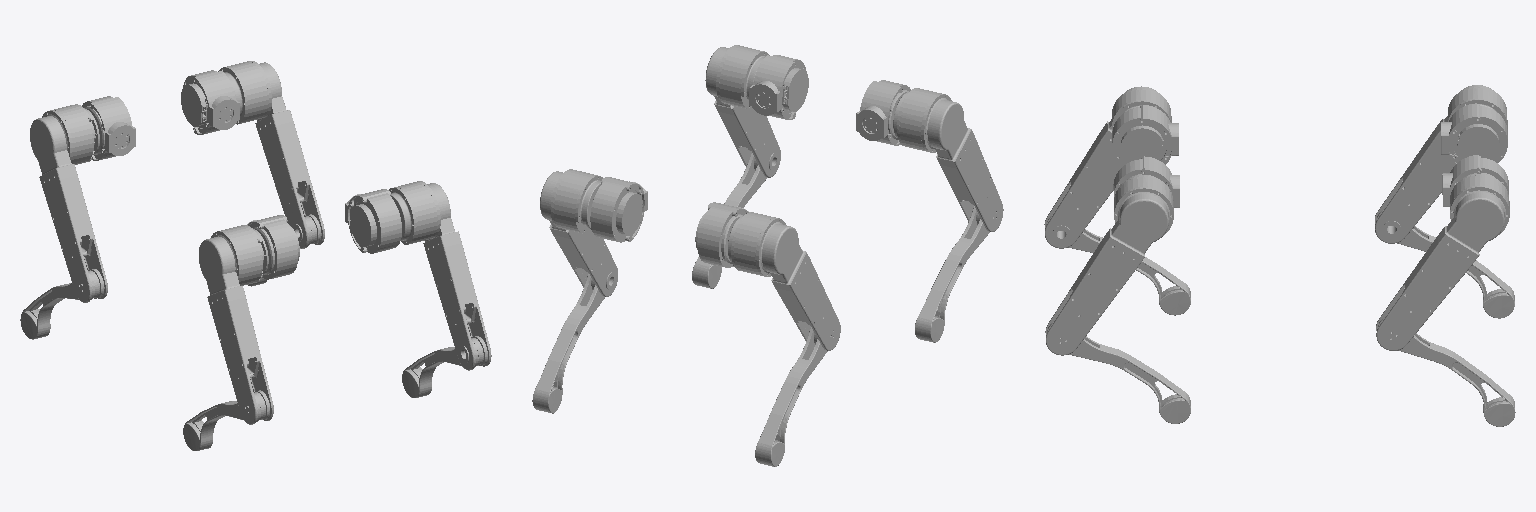
robot.urdf — 1:
<?xml version="1.0" encoding="utf-8"?>
<!-- This URDF was automatically created by SolidWorks to URDF Exporter! Originally created by [author] ([email redacted]) 
     Commit Version: 1.6.0-1-g15f4949  Build Version: 1.6.7594.29634
     For more information, please see http://wiki.ros.org/sw_urdf_exporter -->
<robot
  name="1">
  <link
    name="base_link">
    <inertial>
      <origin
        xyz="-0.225510254235504 -0.0799602253337887 -0.134764112436491"
        rpy="0 0 0" />
      <mass
        value="8.2631452389305" />
      <inertia
        ixx="0.111710709121885"
        ixy="5.64517772747257E-07"
        ixz="-0.000776675804275972"
        iyy="0.126322356921905"
        iyz="2.33319674649524E-05"
        izz="0.0383568171904764" />
    </inertial>
    <visual>
      <origin
        xyz="0 0 0"
        rpy="0 0 0" />
      <geometry>
        <mesh
          filename="package://1/meshes/base_link.STL" />
      </geometry>
      <material
        name="">
        <color
          rgba="0.752941176470588 0.752941176470588 0.752941176470588 1" />
      </material>
    </visual>
    <collision>
      <origin
        xyz="0 0 0"
        rpy="0 0 0" />
      <geometry>
        <mesh
          filename="package://1/meshes/base_link.STL" />
      </geometry>
    </collision>
  </link>
  <link
    name="hip1">
    <inertial>
      <origin
        xyz="0.000524843842896305 -1.04572431609828E-05 -0.0521213967836059"
        rpy="0 0 0" />
      <mass
        value="0.486281355446278" />
      <inertia
        ixx="0.000539303328803075"
        ixy="-5.82153421305436E-07"
        ixz="9.82844943185934E-07"
        iyy="0.00035957180499802"
        iyz="1.21343063536161E-07"
        izz="0.000416756667477661" />
    </inertial>
    <visual>
      <origin
        xyz="0 0 0"
        rpy="0 0 0" />
      <geometry>
        <mesh
          filename="package://1/meshes/hip1.STL" />
      </geometry>
      <material
        name="">
        <color
          rgba="0.752941176470588 0.752941176470588 0.752941176470588 1" />
      </material>
    </visual>
    <collision>
      <origin
        xyz="0 0 0"
        rpy="0 0 0" />
      <geometry>
        <mesh
          filename="package://1/meshes/hip1.STL" />
      </geometry>
    </collision>
  </link>
  <joint
    name="hip_joint1"
    type="continuous">
    <origin
      xyz="-0.327361321931163 0.309577126195316 -0.0799999999999881"
      rpy="1.57079632679512 0.00278137345590681 0.0105408250602068" />
    <parent
      link="base_link" />
    <child
      link="hip1" />
    <axis
      xyz="0 0 1" />
    <limit
      lower="0"
      upper="0"
      effort="0"
      velocity="0" />
  </joint>
  <link
    name="shoulder1">
    <inertial>
      <origin
        xyz="-0.0852748778444271 -0.0182885880388109 -0.0507333263439441"
        rpy="0 0 0" />
      <mass
        value="0.936110858918405" />
      <inertia
        ixx="0.00215368622865265"
        ixy="-3.77969326686884E-06"
        ixz="-7.45623265239244E-06"
        iyy="0.00149939028966098"
        iyz="-0.000508409811126329"
        izz="0.000895724884187715" />
    </inertial>
    <visual>
      <origin
        xyz="0 0 0"
        rpy="0 0 0" />
      <geometry>
        <mesh
          filename="package://1/meshes/shoulder1.STL" />
      </geometry>
      <material
        name="">
        <color
          rgba="0.752941176470588 0.752941176470588 0.752941176470588 1" />
      </material>
    </visual>
    <collision>
      <origin
        xyz="0 0 0"
        rpy="0 0 0" />
      <geometry>
        <mesh
          filename="package://1/meshes/shoulder1.STL" />
      </geometry>
    </collision>
  </link>
  <joint
    name="shoulder_joint1"
    type="continuous">
    <origin
      xyz="0 0 -0.05"
      rpy="-1.6444 0.0038052 -0.0040962" />
    <parent
      link="hip1" />
    <child
      link="shoulder1" />
    <axis
      xyz="0.99999 -0.0038155 0" />
    <limit
      lower="0"
      upper="0"
      effort="0"
      velocity="0" />
  </joint>
  <link
    name="knee1">
    <inertial>
      <origin
        xyz="-0.0170800065153688 0.0372597629196983 0.118157410711885"
        rpy="0 0 0" />
      <mass
        value="0.395406960453235" />
      <inertia
        ixx="0.00282979573506156"
        ixy="-2.64674960443762E-06"
        ixz="-6.99609003341763E-06"
        iyy="0.00243137620147889"
        iyz="-0.000896151269227654"
        izz="0.000443382463569885" />
    </inertial>
    <visual>
      <origin
        xyz="0 0 0"
        rpy="0 0 0" />
      <geometry>
        <mesh
          filename="package://1/meshes/knee1.STL" />
      </geometry>
      <material
        name="">
        <color
          rgba="0.752941176470588 0.752941176470588 0.752941176470588 1" />
      </material>
    </visual>
    <collision>
      <origin
        xyz="0 0 0"
        rpy="0 0 0" />
      <geometry>
        <mesh
          filename="package://1/meshes/knee1.STL" />
      </geometry>
    </collision>
  </link>
  <joint
    name="knee_joint1"
    type="continuous">
    <origin
      xyz="-0.090832 -0.11356 -0.21494"
      rpy="-1.8176 0.0036999 -0.0047477" />
    <parent
      link="shoulder1" />
    <child
      link="knee1" />
    <axis
      xyz="0.99999 -0.0038155 0" />
    <limit
      lower="0"
      upper="0"
      effort="0"
      velocity="0" />
  </joint>
  <link
    name="hip2">
    <inertial>
      <origin
        xyz="0.000524843938783978 -1.04572609390396E-05 -0.0521250799437635"
        rpy="0 0 0" />
      <mass
        value="0.486281355466036" />
      <inertia
        ixx="0.000539303328722281"
        ixy="-5.82153499437824E-07"
        ixz="9.82845517843869E-07"
        iyy="0.000359571805002913"
        iyz="1.21343067351598E-07"
        izz="0.000416756667438753" />
    </inertial>
    <visual>
      <origin
        xyz="0 0 0"
        rpy="0 0 0" />
      <geometry>
        <mesh
          filename="package://1/meshes/hip2.STL" />
      </geometry>
      <material
        name="">
        <color
          rgba="0.752941176470588 0.752941176470588 0.752941176470588 1" />
      </material>
    </visual>
    <collision>
      <origin
        xyz="0 0 0"
        rpy="0 0 0" />
      <geometry>
        <mesh
          filename="package://1/meshes/hip2.STL" />
      </geometry>
    </collision>
  </link>
  <joint
    name="hip_joint2"
    type="continuous">
    <origin
      xyz="-0.127372393904719 0.311681569209403 -0.0799999999999784"
      rpy="-1.57079632679468 0.00621172028300381 -3.13105182852967" />
    <parent
      link="base_link" />
    <child
      link="hip2" />
    <axis
      xyz="0 0 1" />
    <limit
      lower="0"
      upper="0"
      effort="0"
      velocity="0" />
  </joint>
  <link
    name="shoulder2">
    <inertial>
      <origin
        xyz="-0.0552110773447596 -0.0290412065882319 -0.0515179589476509"
        rpy="0 0 0" />
      <mass
        value="0.936110686696508" />
      <inertia
        ixx="0.00215368607343048"
        ixy="-3.77970221061083E-06"
        ixz="-7.45623286345514E-06"
        iyy="0.00149939009900432"
        iyz="-0.000508409803750789"
        izz="0.000895724894838695" />
    </inertial>
    <visual>
      <origin
        xyz="0 0 0"
        rpy="0 0 0" />
      <geometry>
        <mesh
          filename="package://1/meshes/shoulder2.STL" />
      </geometry>
      <material
        name="">
        <color
          rgba="0.752941176470588 0.752941176470588 0.752941176470588 1" />
      </material>
    </visual>
    <collision>
      <origin
        xyz="0 0 0"
        rpy="0 0 0" />
      <geometry>
        <mesh
          filename="package://1/meshes/shoulder2.STL" />
      </geometry>
    </collision>
  </link>
  <joint
    name="shoulder_joint2"
    type="continuous">
    <origin
      xyz="-0.030104 0.00011486 -0.06067"
      rpy="2.7011 -0.0016269 -0.0072668" />
    <parent
      link="hip2" />
    <child
      link="shoulder2" />
    <axis
      xyz="0.99999 -0.0038155 0" />
    <limit
      lower="0"
      upper="0"
      effort="0"
      velocity="0" />
  </joint>
  <link
    name="knee2">
    <inertial>
      <origin
        xyz="0.0173952151853155 0.0371282215465559 0.118157412437666"
        rpy="0 0 0" />
      <mass
        value="0.395406956162563" />
      <inertia
        ixx="0.0028297955984622"
        ixy="-2.64669149116384E-06"
        ixz="-6.9959669304294E-06"
        iyy="0.00243137607847677"
        iyz="-0.000896151245272041"
        izz="0.000443382450664489" />
    </inertial>
    <visual>
      <origin
        xyz="0 0 0"
        rpy="0 0 0" />
      <geometry>
        <mesh
          filename="package://1/meshes/knee2.STL" />
      </geometry>
      <material
        name="">
        <color
          rgba="0.752941176470588 0.752941176470588 0.752941176470588 1" />
      </material>
    </visual>
    <collision>
      <origin
        xyz="0 0 0"
        rpy="0 0 0" />
      <geometry>
        <mesh
          filename="package://1/meshes/knee2.STL" />
      </geometry>
    </collision>
  </link>
  <joint
    name="knee_joint2"
    type="continuous">
    <origin
      xyz="-0.0605963519494378 -0.124317174063713 -0.215722610504905"
      rpy="-0.770827618528824 0.00265837513721969 3.14051413999508" />
    <parent
      link="shoulder2" />
    <child
      link="knee2" />
    <axis
      xyz="0.99999272099745 -0.00381548845054557 0" />
    <limit
      lower="0"
      upper="0"
      effort="0"
      velocity="0" />
  </joint>
  <link
    name="hip3">
    <inertial>
      <origin
        xyz="0.000524843859076751 -1.04572465182001E-05 -0.0521198041306667"
        rpy="0 0 0" />
      <mass
        value="0.486281355445573" />
      <inertia
        ixx="0.000539303328782839"
        ixy="-5.82153434820573E-07"
        ixz="9.82845041621124E-07"
        iyy="0.000359571804995874"
        iyz="1.21343061952056E-07"
        izz="0.000416756667469108" />
    </inertial>
    <visual>
      <origin
        xyz="0 0 0"
        rpy="0 0 0" />
      <geometry>
        <mesh
          filename="package://1/meshes/hip3.STL" />
      </geometry>
      <material
        name="">
        <color
          rgba="0.752941176470588 0.752941176470588 0.752941176470588 1" />
      </material>
    </visual>
    <collision>
      <origin
        xyz="0 0 0"
        rpy="0 0 0" />
      <geometry>
        <mesh
          filename="package://1/meshes/hip3.STL" />
      </geometry>
    </collision>
  </link>
  <joint
    name="hip_joint3"
    type="continuous">
    <origin
      xyz="-0.12286 -0.11656 -0.08"
      rpy="1.5708 0.0013003 -3.1311" />
    <parent
      link="base_link" />
    <child
      link="hip3" />
    <axis
      xyz="0 0 1" />
    <limit
      lower="0"
      upper="0"
      effort="0"
      velocity="0" />
  </joint>
  <link
    name="shoulder3">
    <inertial>
      <origin
        xyz="-0.085297 -0.023991 -0.060972"
        rpy="0 0 0" />
      <mass
        value="0.93611" />
      <inertia
        ixx="0.0021537"
        ixy="-3.7797E-06"
        ixz="-7.4562E-06"
        iyy="0.0014994"
        iyz="-0.00050841"
        izz="0.00089572" />
    </inertial>
    <visual>
      <origin
        xyz="0 0 0"
        rpy="0 0 0" />
      <geometry>
        <mesh
          filename="package://1/meshes/shoulder3.STL" />
      </geometry>
      <material
        name="">
        <color
          rgba="0.75294 0.75294 0.75294 1" />
      </material>
    </visual>
    <collision>
      <origin
        xyz="0 0 0"
        rpy="0 0 0" />
      <geometry>
        <mesh
          filename="package://1/meshes/shoulder3.STL" />
      </geometry>
    </collision>
  </link>
  <joint
    name="shoulder_joint3"
    type="continuous">
    <origin
      xyz="0 0 -0.05"
      rpy="-0.481113979951594 0.0017656930978534 -0.000433137210785791" />
    <parent
      link="hip3" />
    <child
      link="shoulder3" />
    <axis
      xyz="0.99999272099745 -0.00381548845054749 0" />
    <limit
      lower="0"
      upper="0"
      effort="0"
      velocity="0" />
  </joint>
  <link
    name="knee3">
    <inertial>
      <origin
        xyz="0.0177552809711899 0.0371268457204554 0.118157414670992"
        rpy="0 0 0" />
      <mass
        value="0.395406958373625" />
      <inertia
        ixx="0.00282979562701449"
        ixy="-2.64668298942631E-06"
        ixz="-6.99594685739382E-06"
        iyy="0.00243137611708942"
        iyz="-0.000896151223497195"
        izz="0.000443382439816709" />
    </inertial>
    <visual>
      <origin
        xyz="0 0 0"
        rpy="0 0 0" />
      <geometry>
        <mesh
          filename="package://1/meshes/knee3.STL" />
      </geometry>
      <material
        name="">
        <color
          rgba="0.752941176470588 0.752941176470588 0.752941176470588 1" />
      </material>
    </visual>
    <collision>
      <origin
        xyz="0 0 0"
        rpy="0 0 0" />
      <geometry>
        <mesh
          filename="package://1/meshes/knee3.STL" />
      </geometry>
    </collision>
  </link>
  <joint
    name="knee_joint3"
    type="continuous">
    <origin
      xyz="-0.0903218372073121 -0.119268215987857 -0.225177030905708"
      rpy="-0.735833850702106 0.00256098987013537 3.14060547183543" />
    <parent
      link="shoulder3" />
    <child
      link="knee3" />
    <axis
      xyz="0.99999272099745 -0.00381548845054509 0" />
    <limit
      lower="0"
      upper="0"
      effort="0"
      velocity="0" />
  </joint>
  <link
    name="hip4">
    <inertial>
      <origin
        xyz="0.000524843986114243 -1.04572675072301E-05 -0.0521296526199522"
        rpy="0 0 0" />
      <mass
        value="0.486281355506435" />
      <inertia
        ixx="0.000539303328737574"
        ixy="-5.82153538171186E-07"
        ixz="9.82845790154935E-07"
        iyy="0.000359571805028943"
        iyz="1.21343080209793E-07"
        izz="0.00041675666743615" />
    </inertial>
    <visual>
      <origin
        xyz="0 0 0"
        rpy="0 0 0" />
      <geometry>
        <mesh
          filename="package://1/meshes/hip4.STL" />
      </geometry>
      <material
        name="">
        <color
          rgba="0.752941176470588 0.752941176470588 0.752941176470588 1" />
      </material>
    </visual>
    <collision>
      <origin
        xyz="0 0 0"
        rpy="0 0 0" />
      <geometry>
        <mesh
          filename="package://1/meshes/hip4.STL" />
      </geometry>
    </collision>
  </link>
  <joint
    name="hip_joint4"
    type="continuous">
    <origin
      xyz="-0.32285 -0.11866 -0.08"
      rpy="-1.5708 0.010481 0.010541" />
    <parent
      link="base_link" />
    <child
      link="hip4" />
    <axis
      xyz="0 0 1" />
    <limit
      lower="0"
      upper="0"
      effort="0"
      velocity="0" />
  </joint>
  <link
    name="shoulder4">
    <inertial>
      <origin
        xyz="-0.0547740006068385 -0.0290428794226155 -0.0515179765298084"
        rpy="0 0 0" />
      <mass
        value="0.936110890927493" />
      <inertia
        ixx="0.00215368624813071"
        ixy="-3.77968913319885E-06"
        ixz="-7.45623239187688E-06"
        iyy="0.00149939031244336"
        iyz="-0.000508409806139412"
        izz="0.000895724885196074" />
    </inertial>
    <visual>
      <origin
        xyz="0 0 0"
        rpy="0 0 0" />
      <geometry>
        <mesh
          filename="package://1/meshes/shoulder4.STL" />
      </geometry>
      <material
        name="">
        <color
          rgba="0.752941176470588 0.752941176470588 0.752941176470588 1" />
      </material>
    </visual>
    <collision>
      <origin
        xyz="0 0 0"
        rpy="0 0 0" />
      <geometry>
        <mesh
          filename="package://1/meshes/shoulder4.STL" />
      </geometry>
    </collision>
  </link>
  <joint
    name="shoulder_joint4"
    type="continuous">
    <origin
      xyz="-0.030541 0.00011653 -0.060675"
      rpy="1.5417 -0.0038139 -0.0037044" />
    <parent
      link="hip4" />
    <child
      link="shoulder4" />
    <axis
      xyz="0.99999 -0.0038155 0" />
    <limit
      lower="0"
      upper="0"
      effort="0"
      velocity="0" />
  </joint>
  <link
    name="knee4">
    <inertial>
      <origin
        xyz="-0.017167 0.03726 0.11816"
        rpy="0 0 0" />
      <mass
        value="0.39541" />
      <inertia
        ixx="0.0028298"
        ixy="-2.6467E-06"
        ixz="-6.9961E-06"
        iyy="0.0024314"
        iyz="-0.00089615"
        izz="0.00044338" />
    </inertial>
    <visual>
      <origin
        xyz="0 0 0"
        rpy="0 0 0" />
      <geometry>
        <mesh
          filename="package://1/meshes/knee4.STL" />
      </geometry>
      <material
        name="">
        <color
          rgba="0.75294 0.75294 0.75294 1" />
      </material>
    </visual>
    <collision>
      <origin
        xyz="0 0 0"
        rpy="0 0 0" />
      <geometry>
        <mesh
          filename="package://1/meshes/knee4.STL" />
      </geometry>
    </collision>
  </link>
  <joint
    name="knee_joint4"
    type="continuous">
    <origin
      xyz="-0.0602444181800566 -0.124318516872719 -0.215722610504905"
      rpy="-1.78458827448849 0.00372863267404551 -0.00462501866567028" />
    <parent
      link="shoulder4" />
    <child
      link="knee4" />
    <axis
      xyz="0.99999272099745 -0.00381548845054776 0" />
    <limit
      lower="0"
      upper="0"
      effort="0"
      velocity="0" />
  </joint>
</robot>

--- Render facts (derived) ---
3 views of the same robot in one strip: view 1: azimuth 30°, elevation 25°; view 2: azimuth 150°, elevation 25°; view 3: azimuth 270°, elevation 25° (orthographic).
Robot: 1 — 13 links, 12 joints (12 continuous); root link base_link; default pose: every joint at zero.
Visible links, largest first — view 1: shoulder4, shoulder1, shoulder3, shoulder2, hip2, hip3, hip1, hip4, knee1, knee3, knee4; view 2: shoulder4, shoulder1, shoulder2, shoulder3, hip3, hip2, knee2, knee1, knee4, hip4, hip1, knee3; view 3: shoulder2, shoulder3, shoulder4, shoulder1, hip1, hip4, knee3, knee2, knee4, knee1, hip2, hip3.
Boxes of the visible links, box(x1,y1,x2,y2) form: shoulder4: box(199, 225, 273, 424); shoulder1: box(30, 104, 107, 302); shoulder3: box(389, 181, 491, 370); shoulder2: box(218, 61, 324, 248); hip2: box(181, 70, 239, 134); hip3: box(345, 189, 401, 253); hip1: box(82, 96, 135, 160); hip4: box(247, 215, 299, 279); knee1: box(20, 269, 104, 339); knee3: box(402, 336, 487, 397); knee4: box(183, 390, 269, 450); shoulder4: box(893, 88, 1003, 231); shoulder1: box(728, 212, 840, 350); shoulder2: box(540, 169, 617, 296); shoulder3: box(705, 45, 780, 177); hip3: box(749, 55, 808, 119); hip2: box(590, 177, 647, 242); knee2: box(532, 273, 604, 413); knee1: box(755, 327, 827, 466); knee4: box(915, 206, 989, 342); hip4: box(856, 80, 910, 145); hip1: box(695, 202, 748, 267); knee3: box(692, 153, 766, 288); shoulder2: box(1376, 174, 1509, 350); shoulder3: box(1045, 175, 1173, 355); shoulder4: box(1044, 86, 1171, 248); shoulder1: box(1375, 85, 1507, 243); hip1: box(1441, 103, 1507, 163); hip4: box(1112, 105, 1178, 165); knee3: box(1047, 322, 1190, 423); knee2: box(1378, 316, 1515, 426); knee4: box(1046, 215, 1190, 315); knee1: box(1376, 210, 1514, 318); hip2: box(1442, 155, 1508, 206); hip3: box(1113, 156, 1179, 207).
Bounding box of the posed robot: 0.4602 × 0.7708 × 0.4228 m (x, y, z).
12 mesh visuals loaded from 13 distinct referenced files (12 binary STL); not drawn: 1 (reference not matched to a file when rendering).